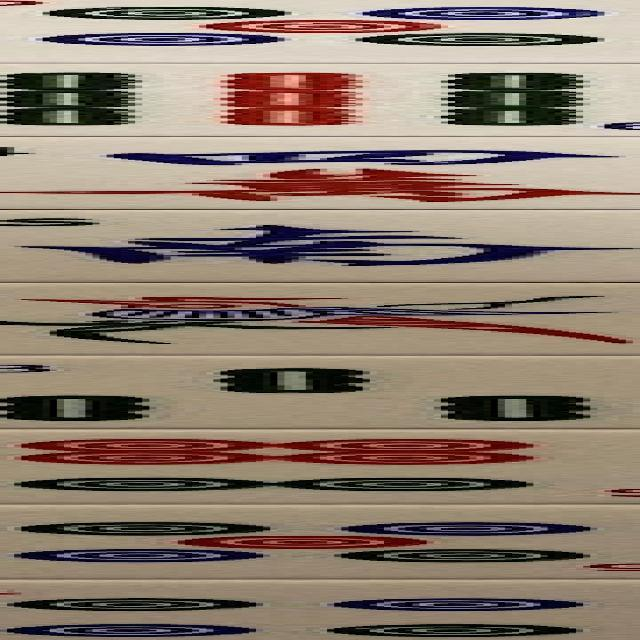hws: (0, 210, 640, 280)
sb1: (0, 285, 640, 353)
sb3: (0, 355, 640, 427)
sb9: (0, 63, 640, 137)
sc4: (0, 138, 640, 209)
sd4: (0, 580, 640, 640)
sd5: (0, 504, 640, 574), (0, 0, 640, 62)
sd6: (0, 430, 640, 503)
